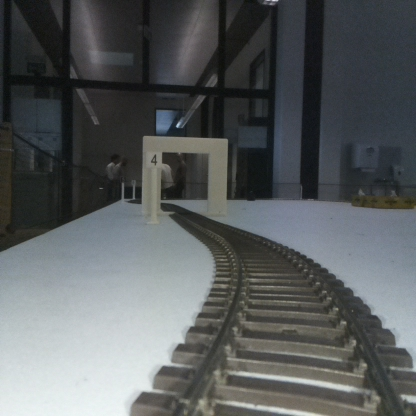white-info-4: (145, 149, 162, 225)
